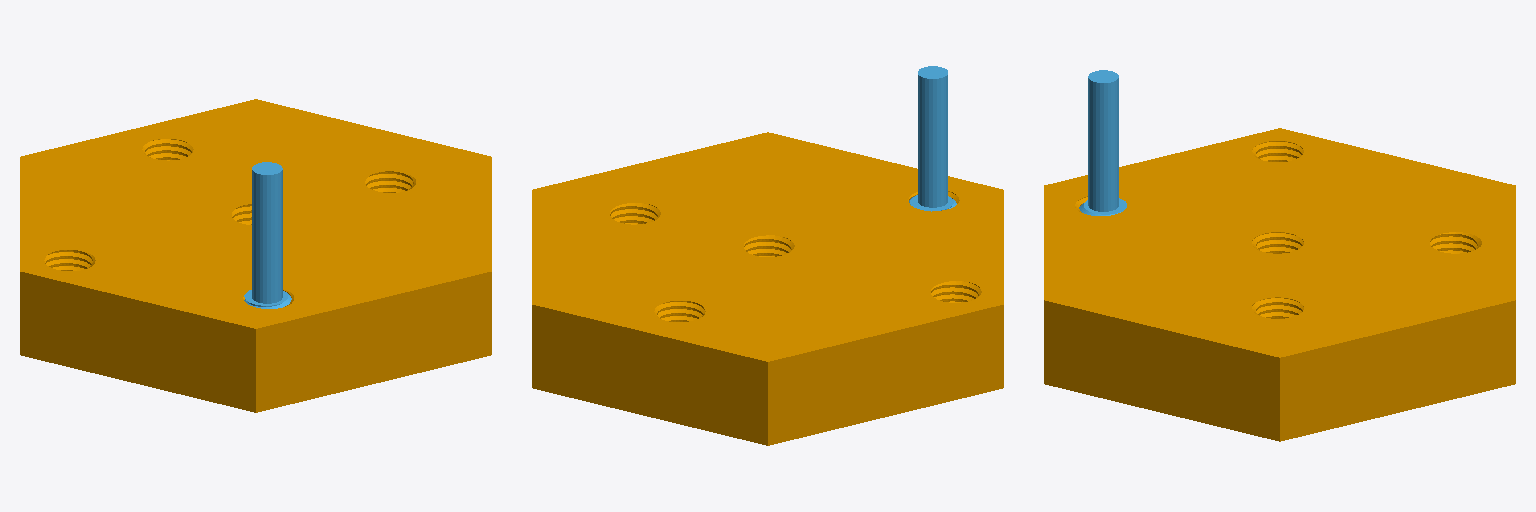
The robot description file, URDF, robot "Peg_insertion_4":
<?xml version='1.0' encoding='utf-8'?>
<robot name="Peg_insertion_4">
  <joint name="FixedJoint" type="fixed">
    <origin xyz="0. 0. 0." rpy="-0. 0. 0." />
    <parent link="World" />
    <child link="Base" />
  </joint>
  <link name="Base">
    <inertial><origin xyz="0.000000 0.000000 0.007500" rpy="0 0 0" /><mass value="0.1008" /><inertia ixx="5.08014e-05" ixy="0" ixz="0" iyy="6.7105e-05" iyz="0" izz="0.000114125" /></inertial><visual>
      <origin xyz="0. 0. 0." rpy="0. 0. 0." />
      <geometry>
        <mesh filename="meshes/Base_principal_Corpo1.obj" scale="1. 1. 1." />
      </geometry>
    </visual>
    <collision>
      <origin xyz="0. 0. 0." rpy="0. 0. 0." />
      <geometry>
        <mesh filename="meshes/Base_principal_Corpo1.obj" scale="1. 1. 1." />
      </geometry>
    </collision>
  </link>
  <link name="World">
    <inertial><origin xyz="0.000000 0.000000 0.019000" rpy="0 0 0" /><mass value="0.0050" /><inertia ixx="1e-06" ixy="0" ixz="0" iyy="1e-06" iyz="0" izz="1e-06" /></inertial><visual>
      <origin xyz="-0.0143715 -0.0285687 0. " rpy="-0. 0. 0." />
      <geometry>
        <mesh filename="meshes/Al__a_Corpo1.obj" scale="1. 1. 1." />
      </geometry>
    </visual>
    <collision>
      <origin xyz="-0.0143715 -0.0285687 0. " rpy="-0. 0. 0." />
      <geometry>
        <mesh filename="meshes/Al__a_Corpo1.obj" scale="1. 1. 1." />
      </geometry>
    </collision>
  </link>
</robot>

--- What the picture shows (computed from the rendered views, not written in the file) ---
3 views of the same robot in one strip: view 1: azimuth 30°, elevation 25°; view 2: azimuth 150°, elevation 25°; view 3: azimuth 270°, elevation 25° (orthographic).
Model Peg_insertion_4 with 2 links and 1 joints (1 fixed), rooted at World, posed every joint at zero.
Links seen in each view (by area): view 1: Base, World; view 2: Base, World; view 3: Base, World.
Link boxes in pixels (x1,y1,x2,y2): Base: [20, 99, 491, 412]; World: [244, 162, 291, 308]; Base: [532, 132, 1003, 445]; World: [909, 66, 956, 211]; Base: [1044, 128, 1515, 441]; World: [1079, 70, 1126, 215].
Size in the robot's own frame: 0.0881 by 0.0763 by 0.038 metres.
Meshes: 2 distinct files referenced, 2 mesh visuals loaded (2 OBJ).
